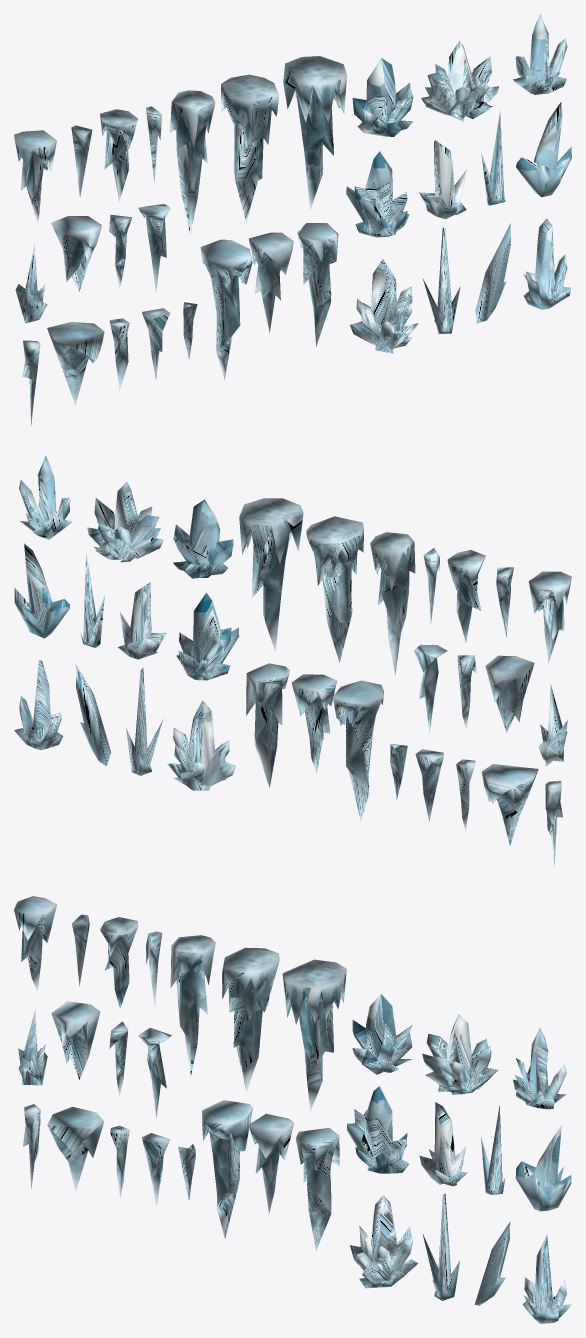
File: Crystal_Lattice.glb
3 views of the same model, one above another, from view 1: azimuth 30°, elevation 25°; view 2: azimuth 150°, elevation 25°; view 3: azimuth 330°, elevation 25° (orthographic).
Parts seen in each view (by area): view 1: Crystal_Lattice; view 2: Crystal_Lattice; view 3: Crystal_Lattice.
Boxes of the visible parts, x1,y1,x2,y2 form: Crystal_Lattice: (14,14,571,425); Crystal_Lattice: (14,456,571,865); Crystal_Lattice: (14,896,571,1323).
Size of the model in its own units: 1.9 by 0.9653 by 0.2554.
1 material, 1 textured.
